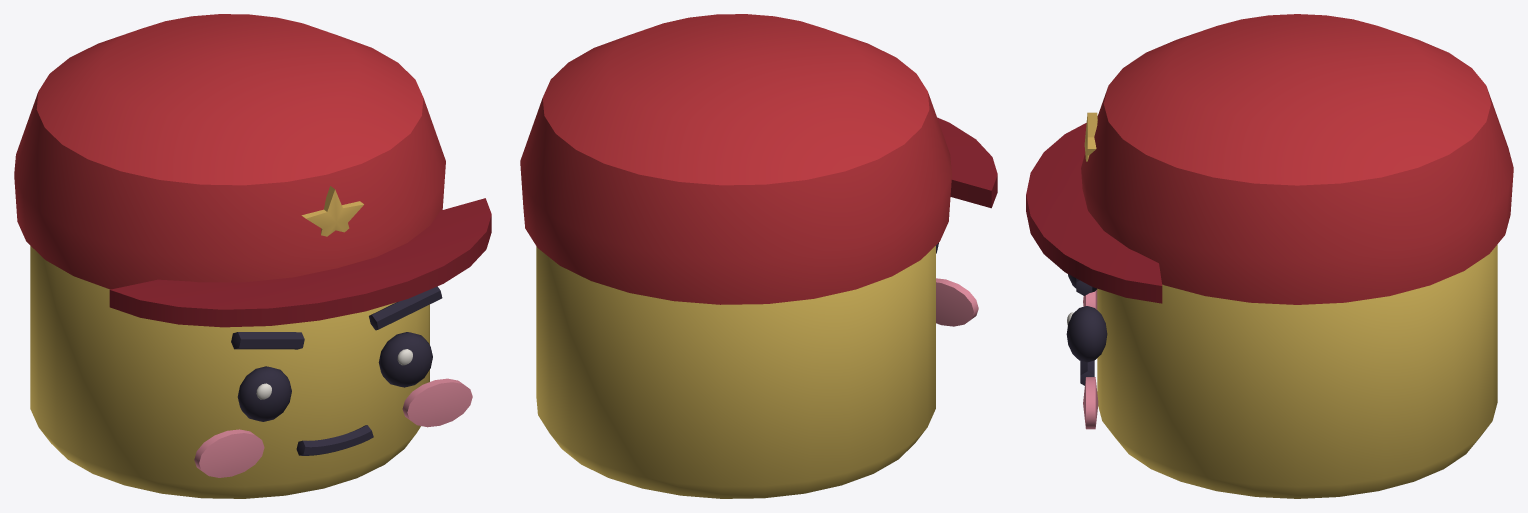
Rendered from Planter_Head.fbx.
3 renders of one model, left to right at view 1: azimuth 30°, elevation 25°; view 2: azimuth 150°, elevation 25°; view 3: azimuth 270°, elevation 25°, orthographic.
Parts seen in each view (by area): view 1: Planter_Head; view 2: Planter_Head; view 3: Planter_Head.
Boxes of the visible parts, x1,y1,x2,y2 form: Planter_Head: [14, 14, 491, 498]; Planter_Head: [520, 14, 997, 498]; Planter_Head: [1026, 14, 1513, 498].
Bounding box in the file's own units: 0.1343 × 0.137 × 0.151.
